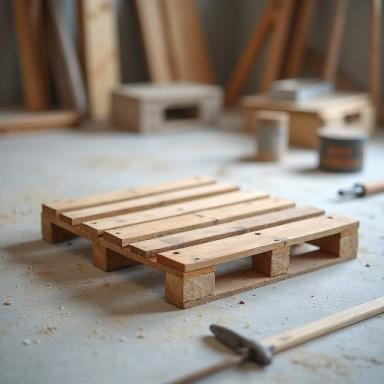pallet: (41, 175, 360, 310)
